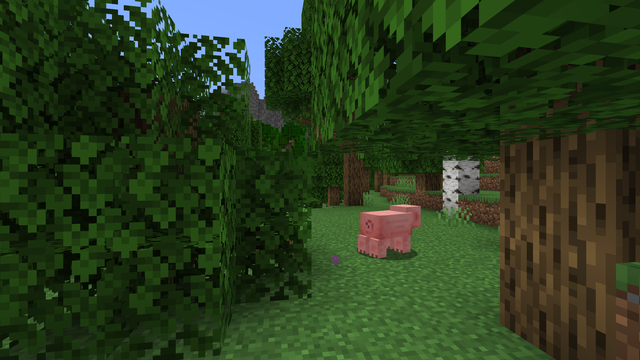cochons: (360, 209, 414, 258)
